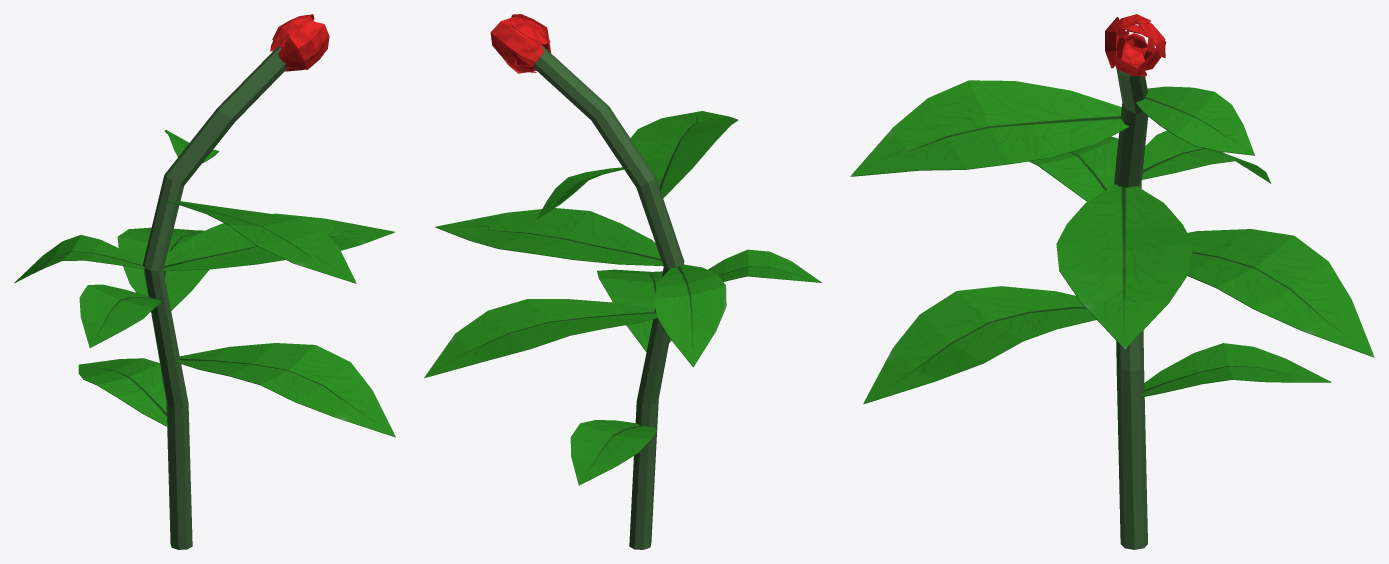
The model's file is plant_withered_1.fbx.
3 views of the same model, side by side, from view 1: azimuth 30°, elevation 25°; view 2: azimuth 150°, elevation 25°; view 3: azimuth 270°, elevation 25° (orthographic). The views are drawn at different scales.
Parts seen in each view (by area): view 1: Cylinder; view 2: Cylinder; view 3: Cylinder.
Part boxes in pixels (left/top/right/bottom): Cylinder: left=14, top=14, right=395, bottom=549; Cylinder: left=424, top=14, right=821, bottom=549; Cylinder: left=850, top=14, right=1374, bottom=549.
Bounding box in the file's own units: 1.36 × 1.24 × 1.71.
